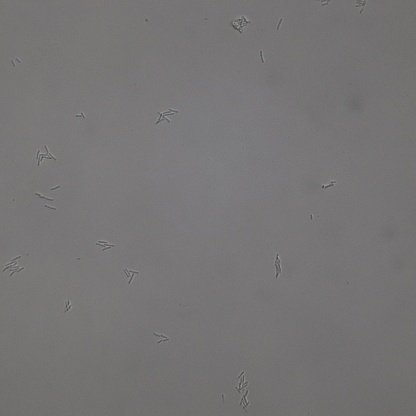R(colony): (3, 255, 24, 279), (36, 144, 58, 165), (157, 107, 178, 124), (230, 16, 249, 34), (95, 238, 116, 252), (235, 371, 248, 393), (273, 253, 284, 278), (239, 394, 252, 413), (124, 269, 138, 285), (153, 331, 170, 343), (355, 1, 365, 14), (322, 181, 335, 190), (64, 300, 71, 311)
